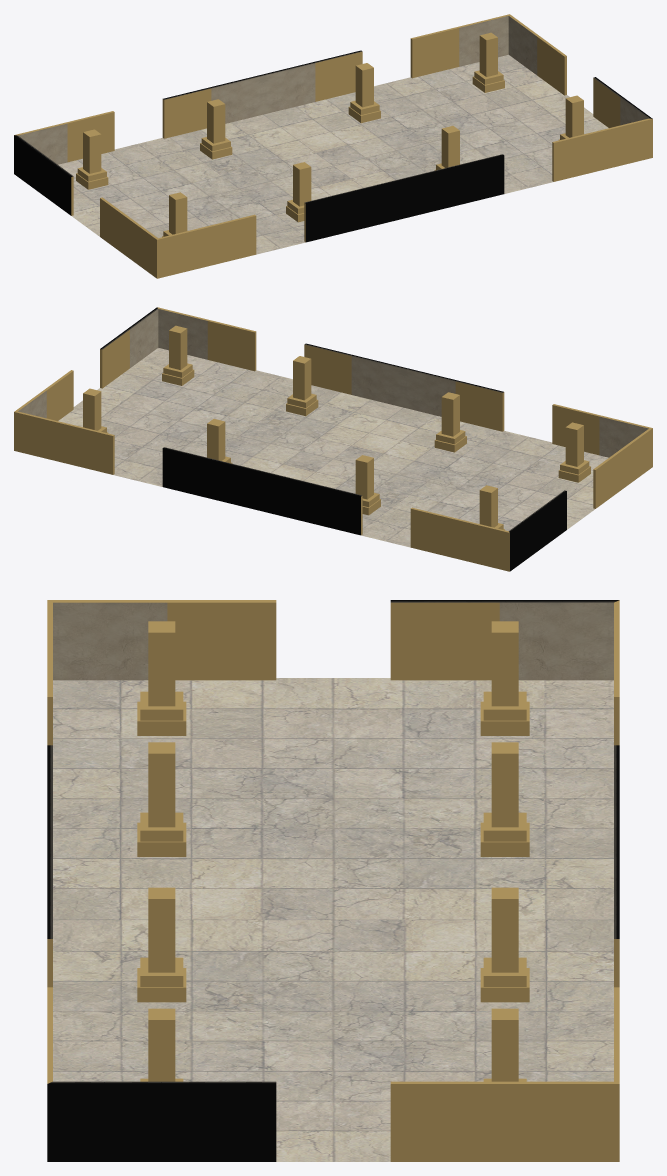
The model's file is Room2x1_6Exits.fbx.
3 renders of one model, top to bottom at view 1: azimuth 30°, elevation 25°; view 2: azimuth 150°, elevation 25°; view 3: azimuth 270°, elevation 25°, orthographic. The views are drawn at different scales.
Visible parts, largest first — view 1: Room2x1_6Exits, Column1, Column3, Column5, Column7, Column6, Column8, Column4, Column2; view 2: Room2x1_6Exits, Column2, Column4, Column6, Column8, Column5, Column7, Column3, Column1; view 3: Room2x1_6Exits, Column3, Column4, Column5, Column6, Column7, Column8, Column1, Column2.
Part boxes in pixels (left/top/right/bottom): Room2x1_6Exits: left=14, top=14, right=652, bottom=278; Column1: left=472, top=32, right=504, bottom=92; Column3: left=348, top=63, right=380, bottom=123; Column5: left=200, top=99, right=232, bottom=159; Column7: left=76, top=129, right=108, bottom=189; Column6: left=286, top=162, right=311, bottom=222; Column8: left=162, top=192, right=187, bottom=237; Column4: left=434, top=126, right=459, bottom=170; Column2: left=559, top=95, right=583, bottom=140; Room2x1_6Exits: left=14, top=307, right=652, bottom=571; Column2: left=162, top=325, right=194, bottom=385; Column4: left=286, top=356, right=318, bottom=416; Column6: left=434, top=392, right=466, bottom=452; Column8: left=558, top=422, right=590, bottom=482; Column5: left=355, top=455, right=380, bottom=515; Column7: left=479, top=485, right=504, bottom=530; Column3: left=207, top=419, right=232, bottom=463; Column1: left=83, top=388, right=107, bottom=433; Room2x1_6Exits: left=47, top=600, right=619, bottom=1161; Column3: left=480, top=887, right=529, bottom=1002; Column4: left=137, top=887, right=186, bottom=1002; Column5: left=480, top=742, right=529, bottom=856; Column6: left=137, top=742, right=186, bottom=856; Column7: left=480, top=621, right=529, bottom=735; Column8: left=137, top=621, right=186, bottom=735; Column1: left=483, top=1008, right=526, bottom=1081; Column2: left=140, top=1008, right=183, bottom=1081.
Bounding box in the file's own units: 20 × 1.91 × 10.
1 material, 1 textured.
